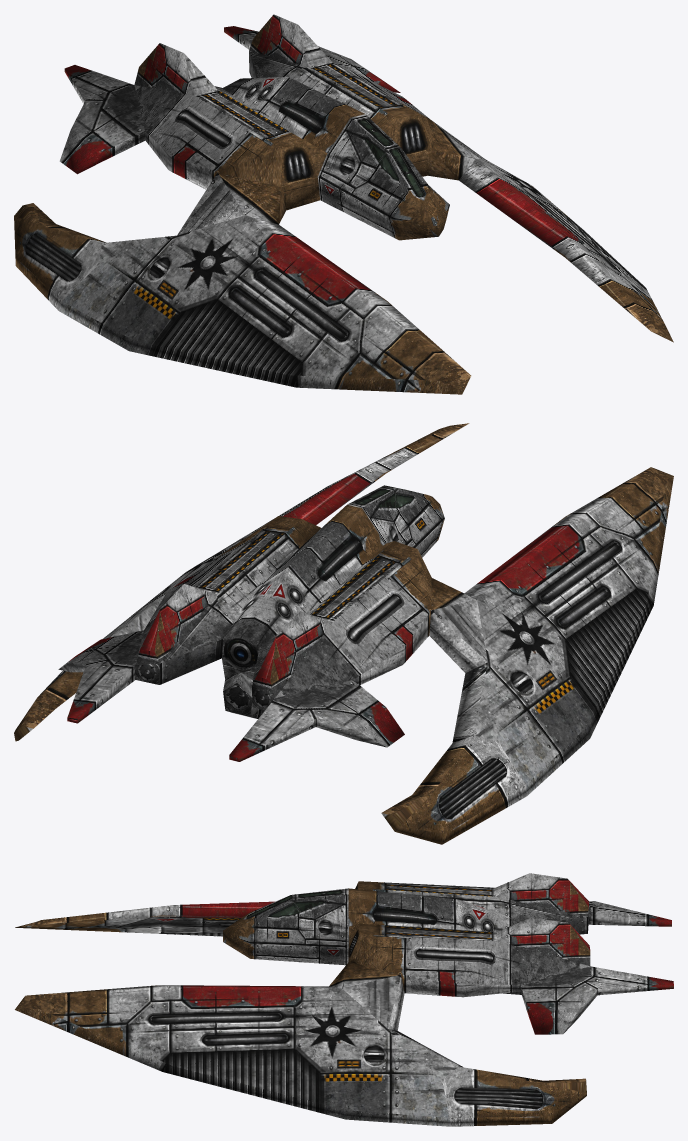
File: shroud.glb
3 renders of one model, top to bottom at view 1: azimuth 30°, elevation 25°; view 2: azimuth 150°, elevation 25°; view 3: azimuth 270°, elevation 25°, orthographic. The views are drawn at different scales.
Parts seen in each view (by area): view 1: Shroud Body, Shroud Cockpit; view 2: Shroud Body, Shroud Cockpit; view 3: Shroud Body, Shroud Cockpit.
Boxes of the visible parts, x1,y1,x2,y2 form: Shroud Body: (14, 14, 673, 394); Shroud Cockpit: (317, 114, 449, 240); Shroud Body: (14, 423, 673, 844); Shroud Cockpit: (347, 485, 444, 557); Shroud Body: (15, 873, 673, 1126); Shroud Cockpit: (223, 888, 348, 965).
Size of the model in its own units: 1006 by 394 by 1554.
1 material, 1 textured.
